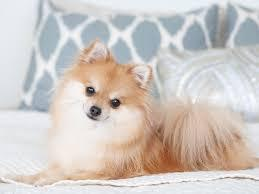Dog: (51, 39, 154, 143)
